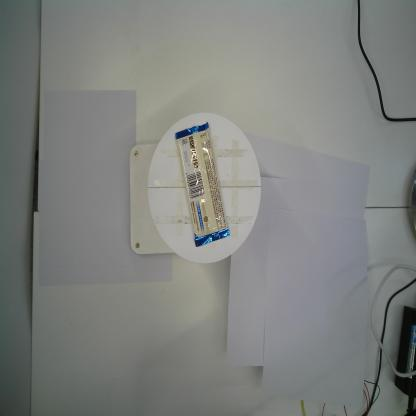Chocolate: (173, 118, 231, 249)
